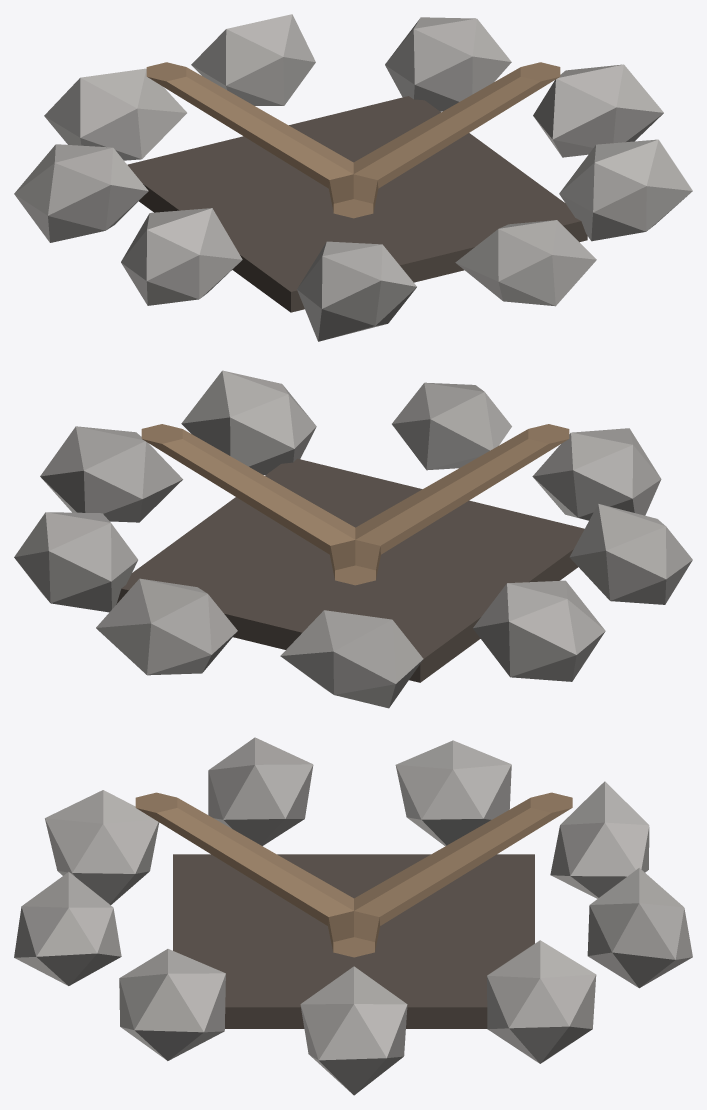
The model's file is campfire.glb.
3 views of the same model, one above another, from view 1: azimuth 30°, elevation 25°; view 2: azimuth 150°, elevation 25°; view 3: azimuth 270°, elevation 25° (orthographic). The views are drawn at different scales.
Visible parts, largest first — view 1: campfire; view 2: campfire; view 3: campfire.
Boxes of the visible parts, <box> form: campfire: <box>14,14,692,341</box>; campfire: <box>14,370,692,708</box>; campfire: <box>14,737,692,1095</box>.
Size of the model in its own units: 1.15 by 0.193 by 1.13.
